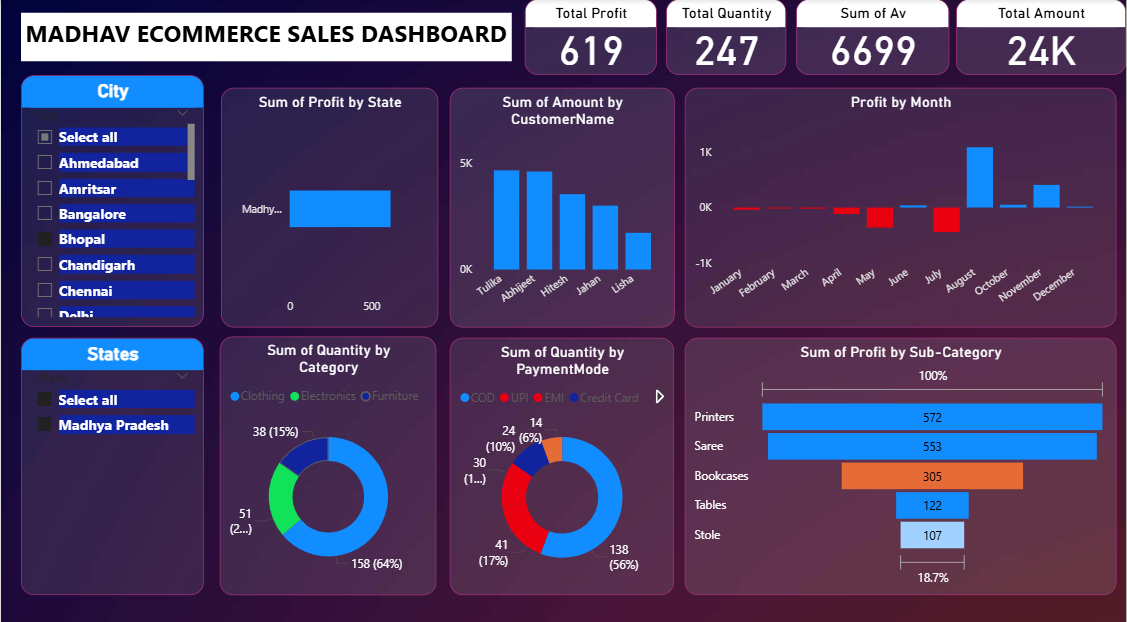

What the dashboard file says about the page in this screenshot:
{"tool":"powerbi","page":{"name":"Page 1","canvas":[1280,720],"ordinal":0},"visuals":[{"type":"textbox","box":[22.9,15.7,558.6,55.5],"z":0},{"type":"columnChart","title":"Profit by Month","fields":{"Category":["Orders.Order Date.Variation.Date Hierarchy.Month"],"Y":["Sum(Details.Profit)"]},"box":[778.2,101.3,491,272.7],"z":1000},{"type":"funnel","fields":{"Category":["Details.Sub-Category"],"Y":["Sum(Details.Profit)"]},"box":[778.2,384.9,491,293.2],"z":2000},{"type":"columnChart","fields":{"Category":["Orders.CustomerName"],"Y":["Sum(Details.Amount)"]},"box":[510.3,101.3,255.8,272.7],"z":3000},{"type":"clusteredBarChart","fields":{"Category":["Orders.State"],"Y":["Sum(Details.Profit)"]},"box":[249.7,101.3,247.3,272.7],"z":4000},{"type":"slicer","title":"City","fields":{"Values":["Orders.City"]},"box":[23.1,87.2,208.2,286.5],"z":5000},{"type":"slicer","title":"States","fields":{"Values":["Orders.State"]},"box":[23,385,208,293],"z":6000},{"type":"card","title":"Total Profit","fields":{"Values":["Sum(Details.Profit)"]},"box":[595.9,0,150,86.6],"z":7000},{"type":"card","title":"Total Quantity","fields":{"Values":["Sum(Details.Quantity)"]},"box":[756,0,137.1,86.6],"z":8000},{"type":"card","title":"Total Amount","fields":{"Values":["Sum(Details.Amount)"]},"box":[1086.4,0,193.3,86.6],"z":9000},{"type":"donutChart","fields":{"Category":["Details.Category"],"Y":["Sum(Details.Quantity)"]},"box":[249.6,383.8,246.7,294.3],"z":10000},{"type":"donutChart","fields":{"Category":["Details.PaymentMode"],"Y":["Sum(Details.Quantity)"]},"box":[510.7,385.2,255.4,292.9],"z":11000},{"type":"card","title":"Sum of Av","fields":{"Values":["Sum(Details.AV)"]},"box":[904.6,0,174.6,86.6],"z":11001}]}

Visuals, with their boxes in screenshot pixels (x1, y1, x2, y2), scaled from the page's 1280x720 canvas onto the 1127x622 screenshot:
textbox: 20 14 512 62
"Profit by Month" columnChart: 685 88 1117 323
funnel - Details.Sub-Category x Sum(Details.Profit): 685 333 1117 586
columnChart - Orders.CustomerName x Sum(Details.Amount): 449 88 675 323
clusteredBarChart - Orders.State x Sum(Details.Profit): 220 88 438 323
"City" slicer: 20 75 204 323
"States" slicer: 20 333 203 586
"Total Profit" card: 525 0 657 75
"Total Quantity" card: 666 0 786 75
"Total Amount" card: 957 0 1126 75
donutChart - Details.Category x Sum(Details.Quantity): 220 332 437 586
donutChart - Details.PaymentMode x Sum(Details.Quantity): 450 333 675 586
"Sum of Av" card: 796 0 950 75
